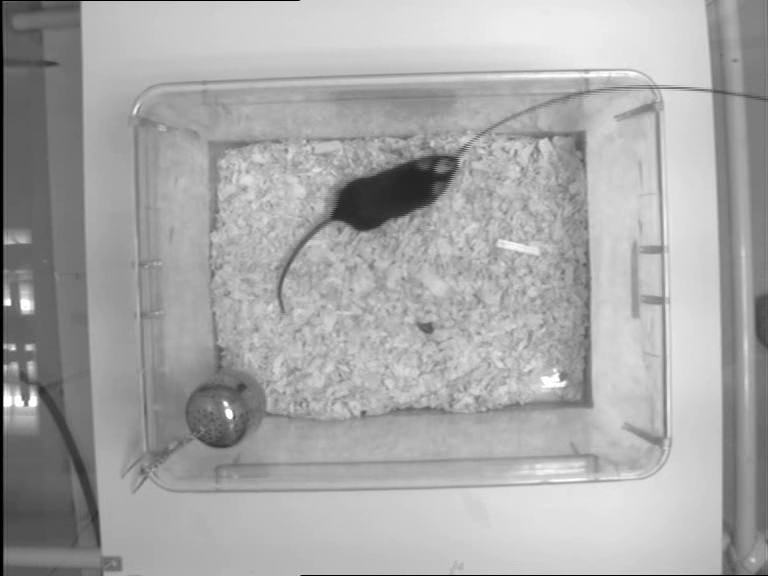mice: (276, 152, 460, 316)
